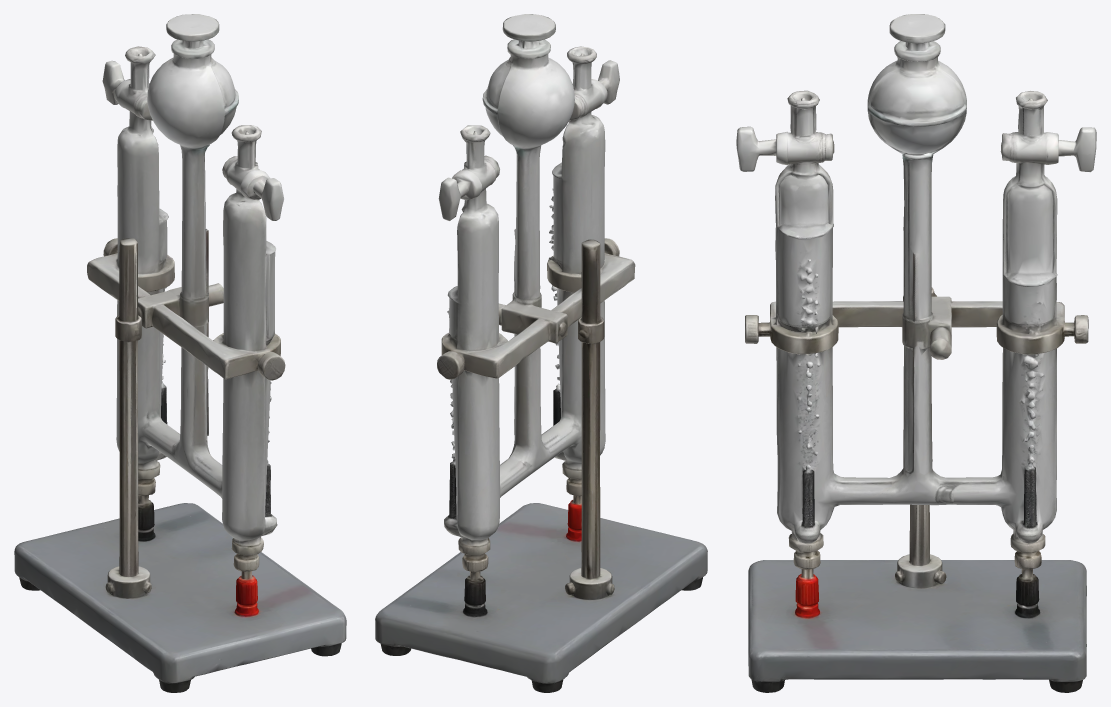
The model's file is hofmann-voltameter.glb.
3 renders of one model, left to right at view 1: azimuth 30°, elevation 25°; view 2: azimuth 150°, elevation 25°; view 3: azimuth 270°, elevation 25°, orthographic. The views are drawn at different scales.
Visible parts, largest first — view 1: hofmann-voltameter; view 2: hofmann-voltameter; view 3: hofmann-voltameter.
Boxes of the visible parts, x1=… form: hofmann-voltameter: x1=14, y1=14, x2=346, y2=692; hofmann-voltameter: x1=375, y1=14, x2=707, y2=692; hofmann-voltameter: x1=736, y1=14, x2=1096, y2=692.
Size of the model in its own units: 0.1959 by 0.6 by 0.3113.
Materials: 1 (1 with a texture image).
